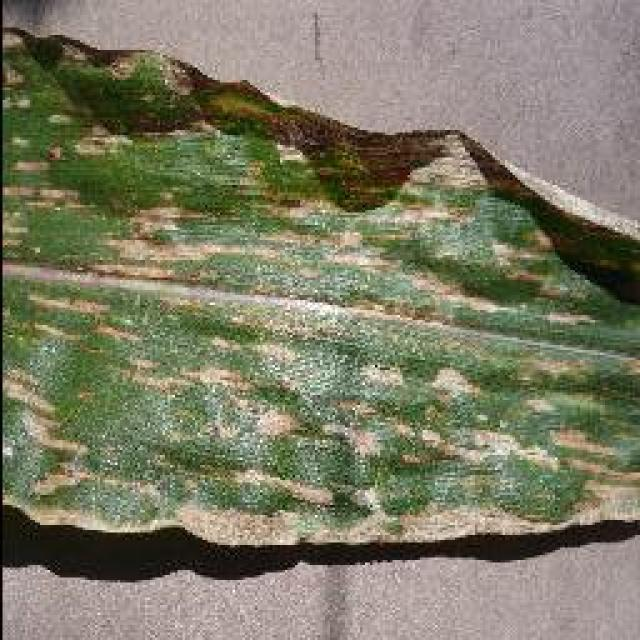Corn_Grey_Leaf_Spot: (2, 138, 460, 508)
